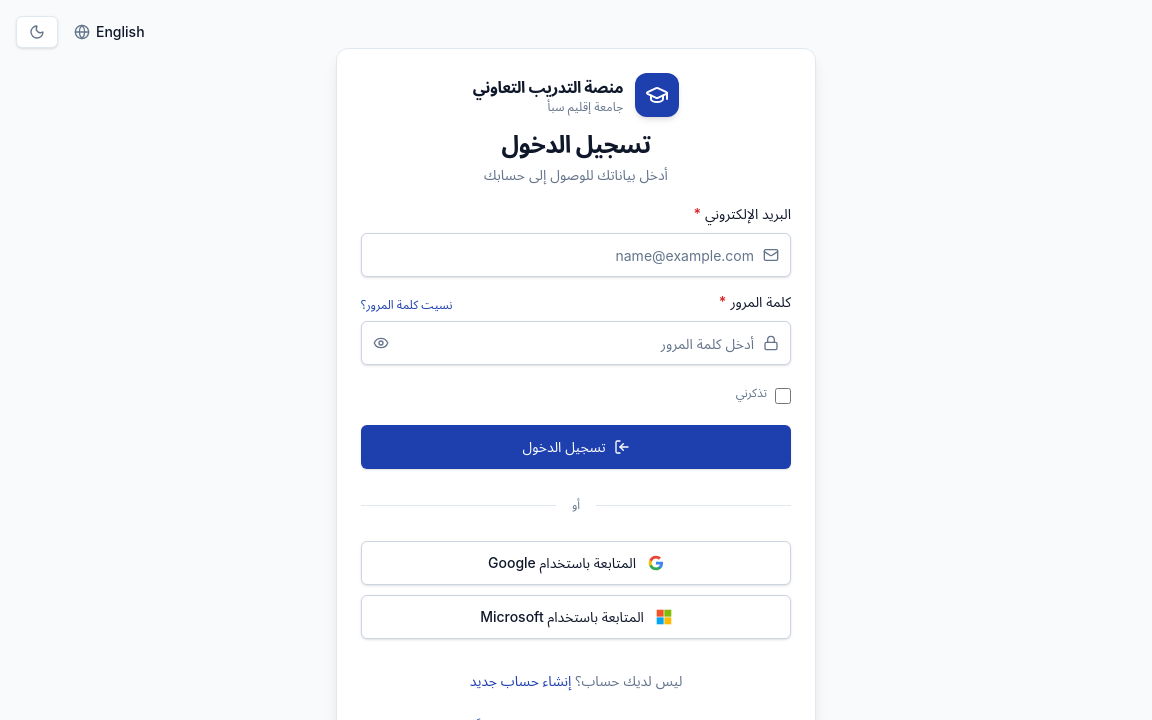
Test case: LoginPage Component (TEP-563 Wired Flow) › displays VerifyEmailNotice when login fails with email_not_verified
Type "pending.student@example.com" into the field labelled "البريد الإلكتروني*" at coordinates (576, 255), box x1=361 y1=233 x2=791 y2=277
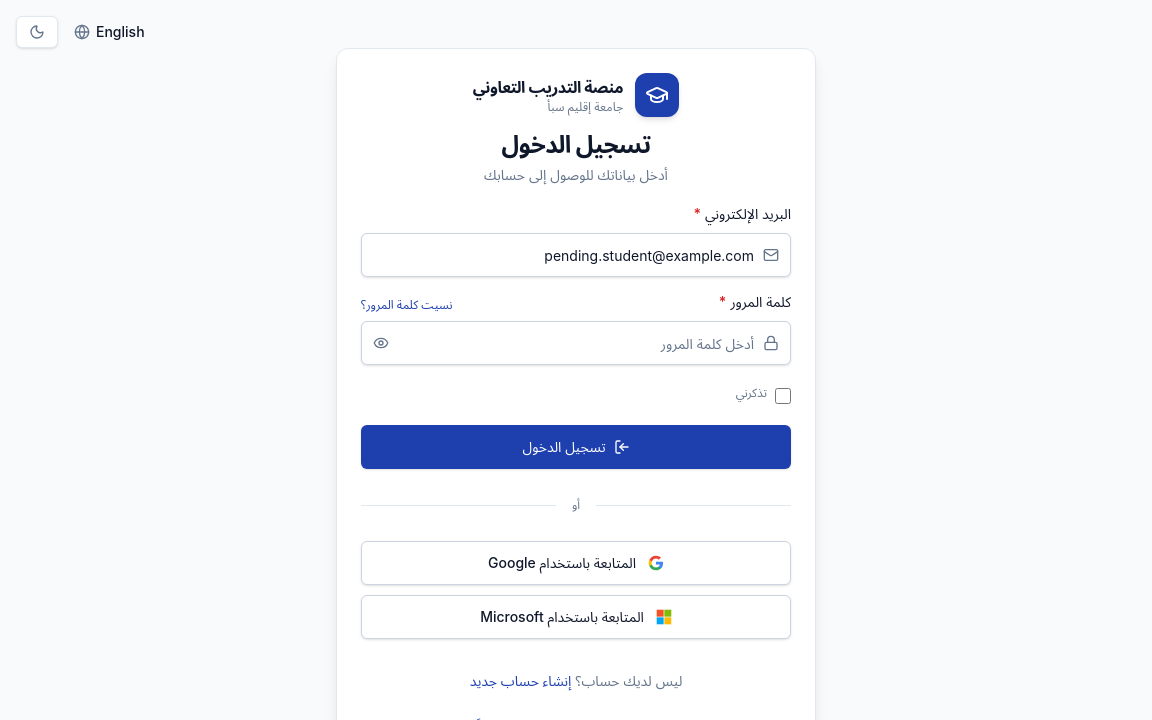
Type "SecurePass123!" into the password field labelled "كلمة المرور*" at coordinates (576, 343), box x1=361 y1=321 x2=791 y2=365
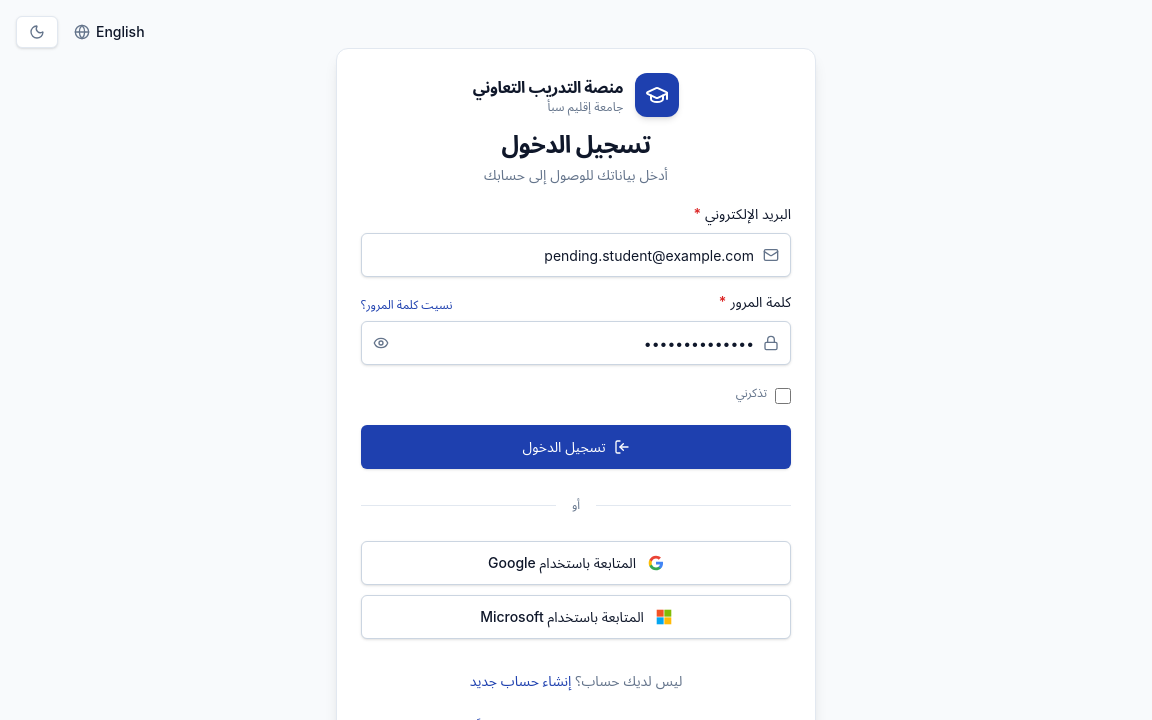
Click the button "تسجيل الدخول" at coordinates (576, 447), box x1=361 y1=425 x2=791 y2=469
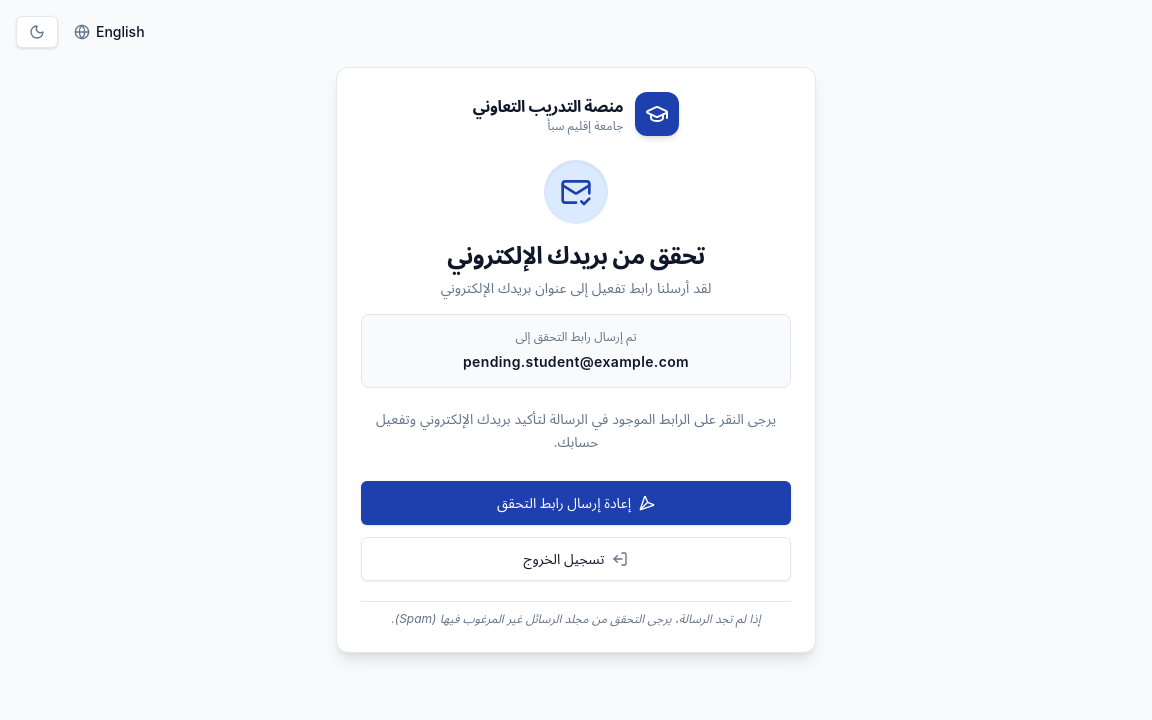
Now the heading "تحقق من بريدك الإلكتروني" is shown, box x1=447 y1=241 x2=705 y2=270
Now the text "pending.student@example.com" is shown, box x1=463 y1=353 x2=689 y2=370
Now the button "إعادة إرسال رابط التحقق" is shown, box x1=361 y1=481 x2=791 y2=525
